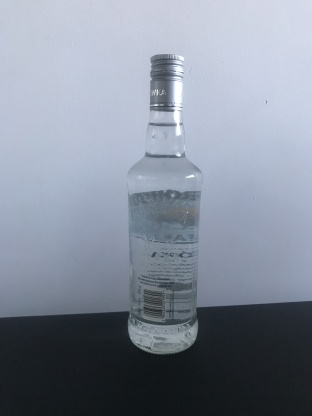nakretka: (148, 51, 186, 114)
